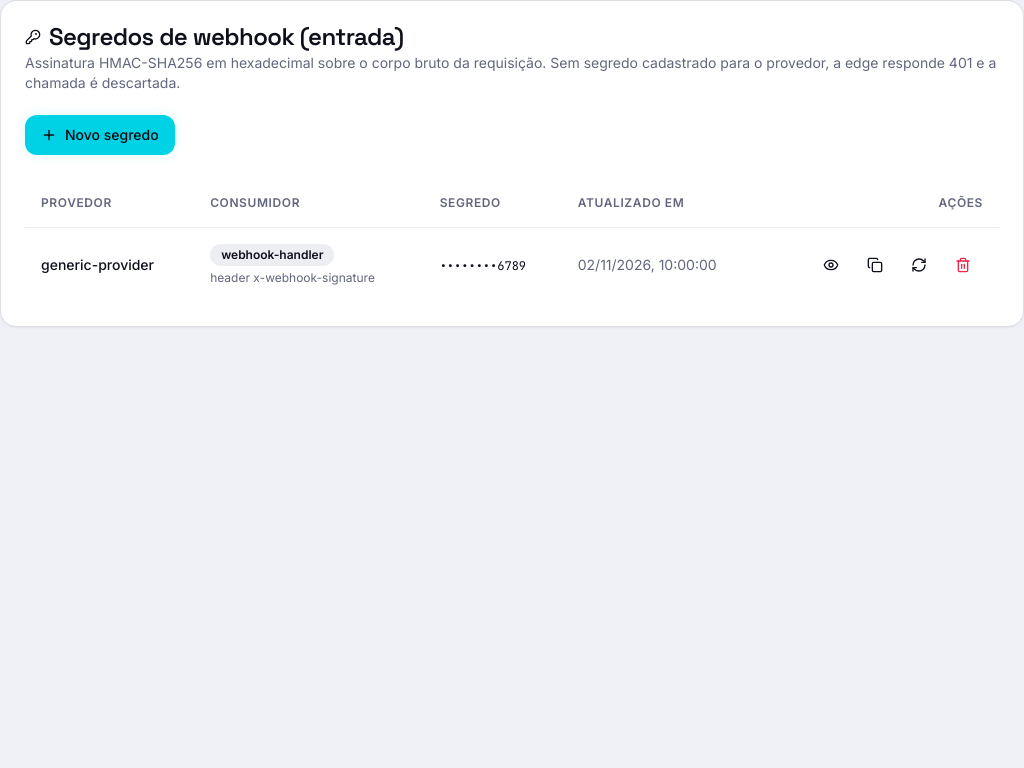
Test: WebhookSecretsCard › cadastra com provedor normalizado e segredo gerado
The width and height of the screenshot is (1024, 768).
Click the button with aria-label "Cadastrar novo segredo de webhook" at (100, 135), box 25,115 -> 175,155
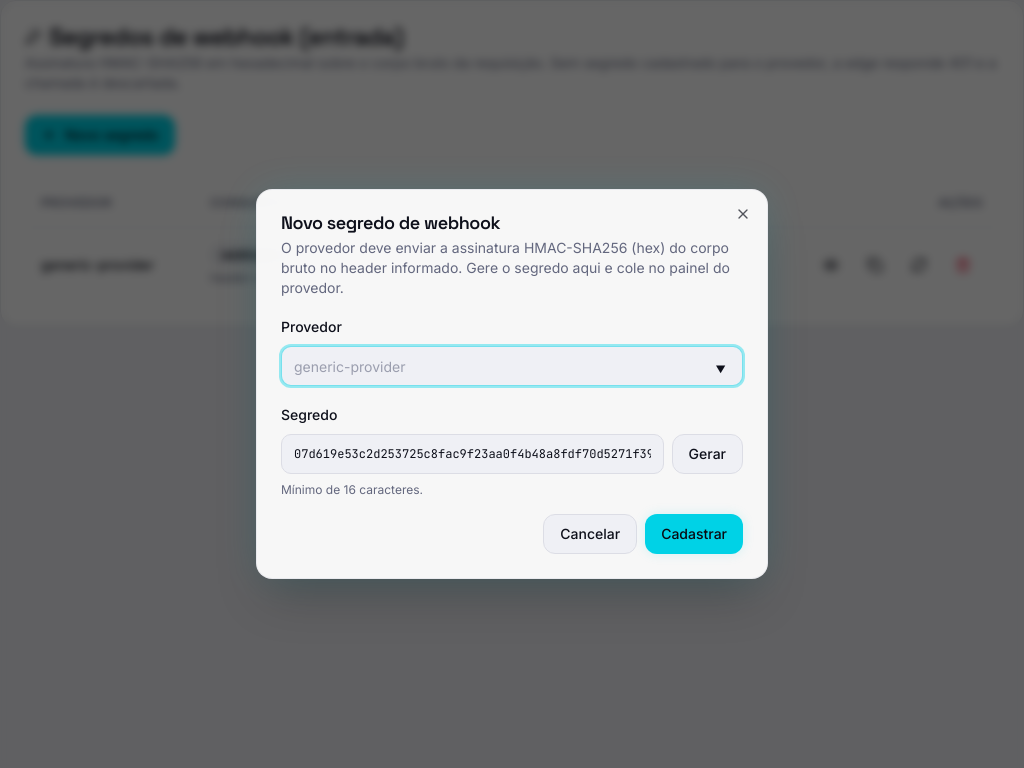
Type "  Stripe " into the field named "Provedor do webhook" at (512, 366), box 281,346 -> 743,386
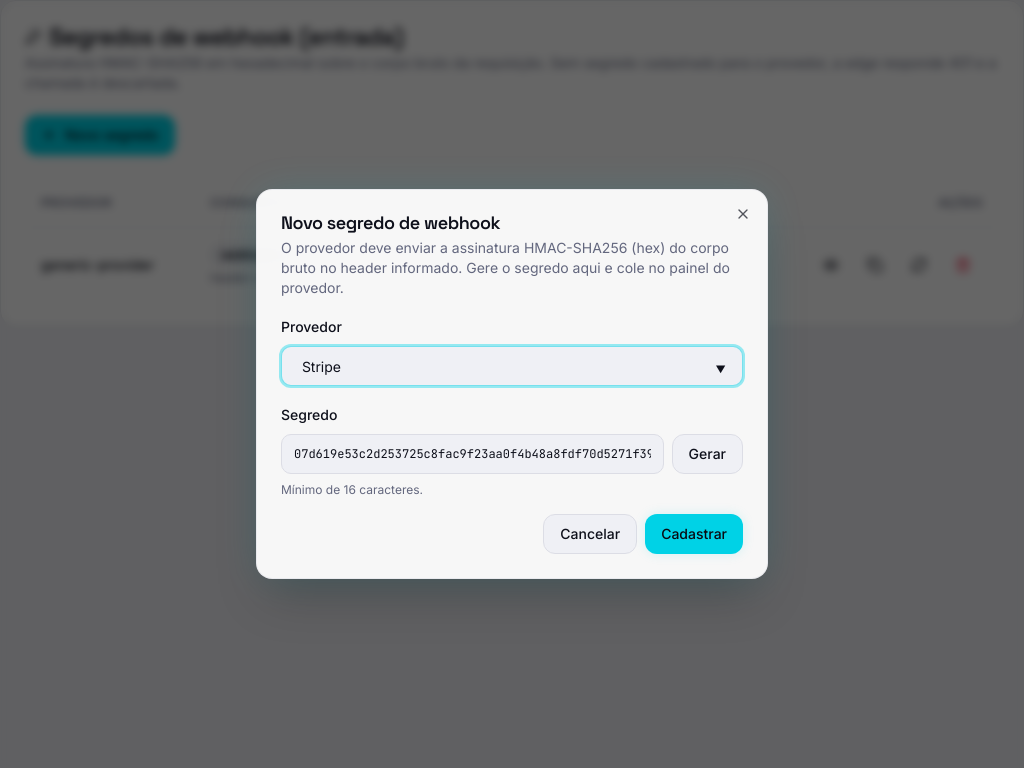
Click the button "Cadastrar" at (694, 534), box 645,514 -> 743,554
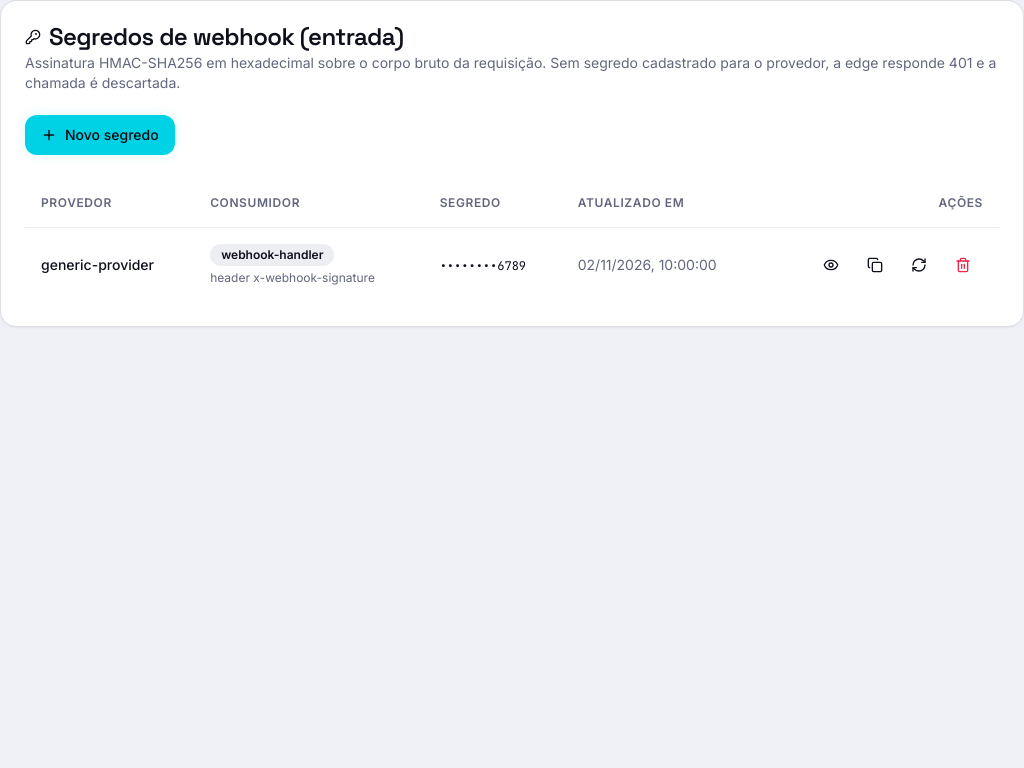
Result: the heading "Novo segredo de webhook" is gone
